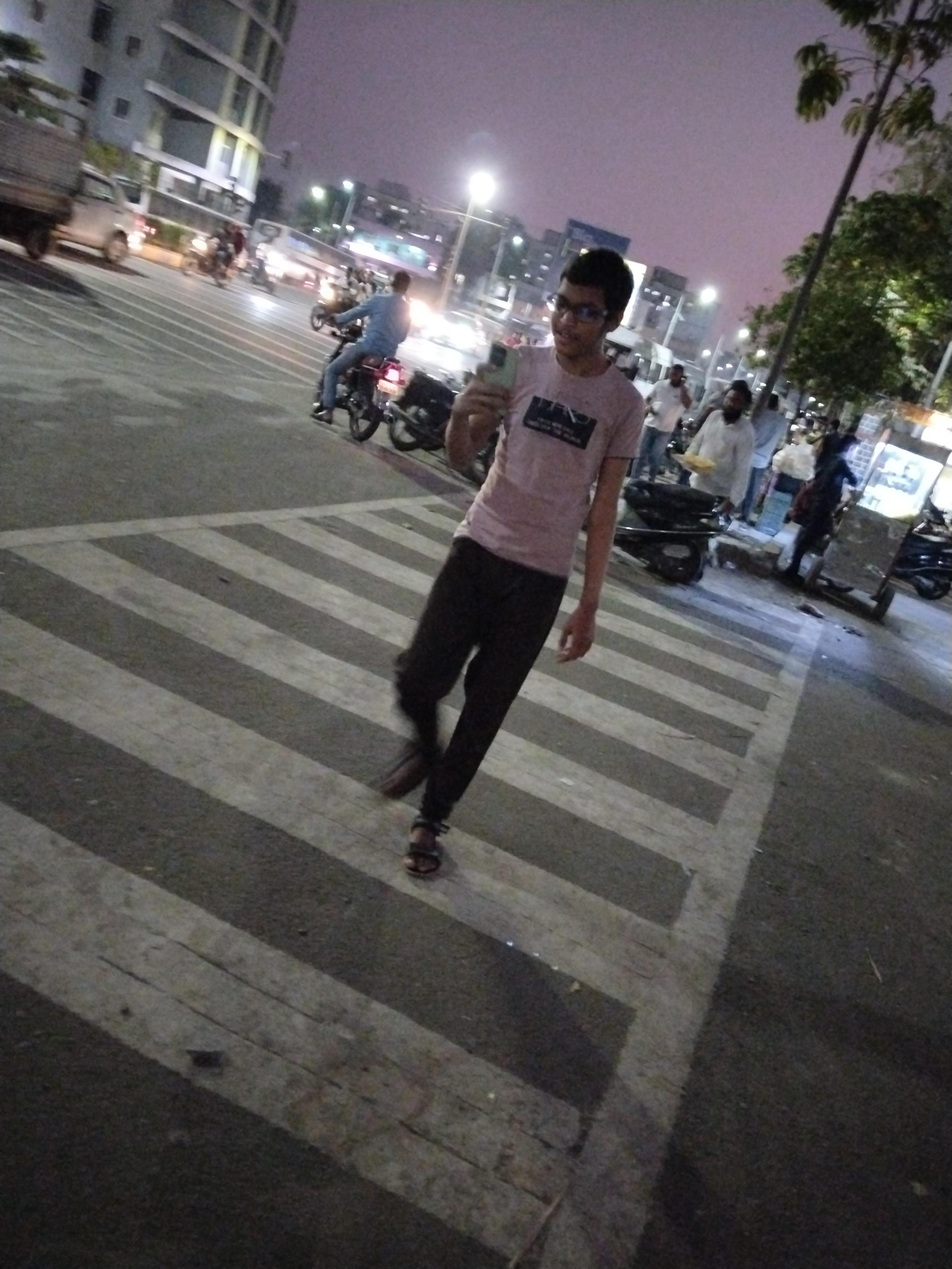crosswalk: (4, 496, 845, 1269)
